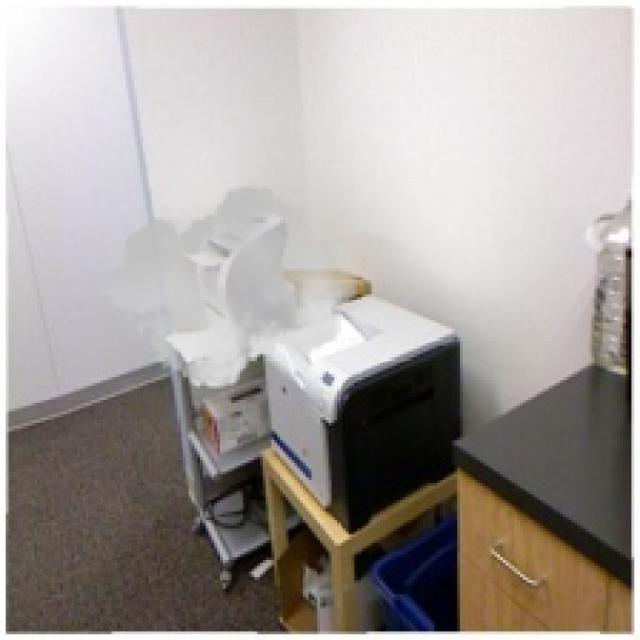smoke: (100, 177, 363, 397)
